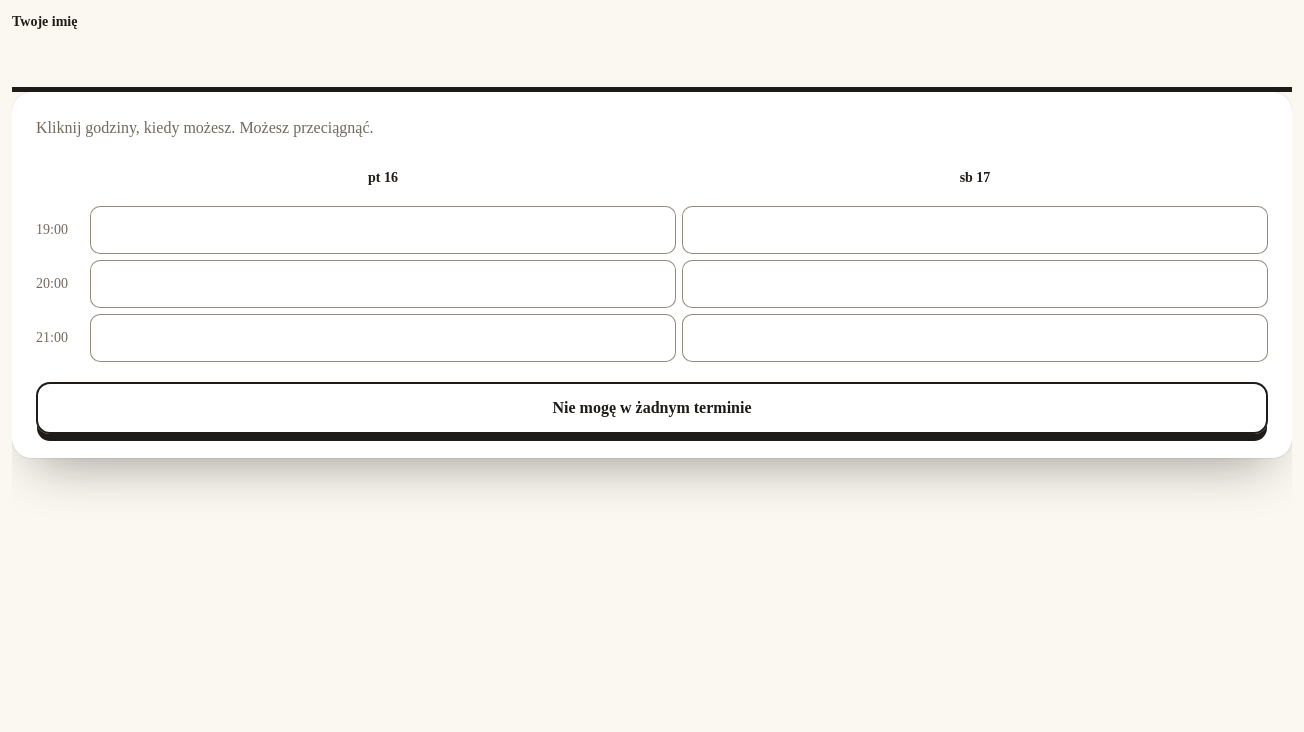
Test case: the Moje lead and body › reports a save that throws to the server log
Type "Ola" into the field labelled "Twoje imię" at (652, 66), box [12,40,1292,92]
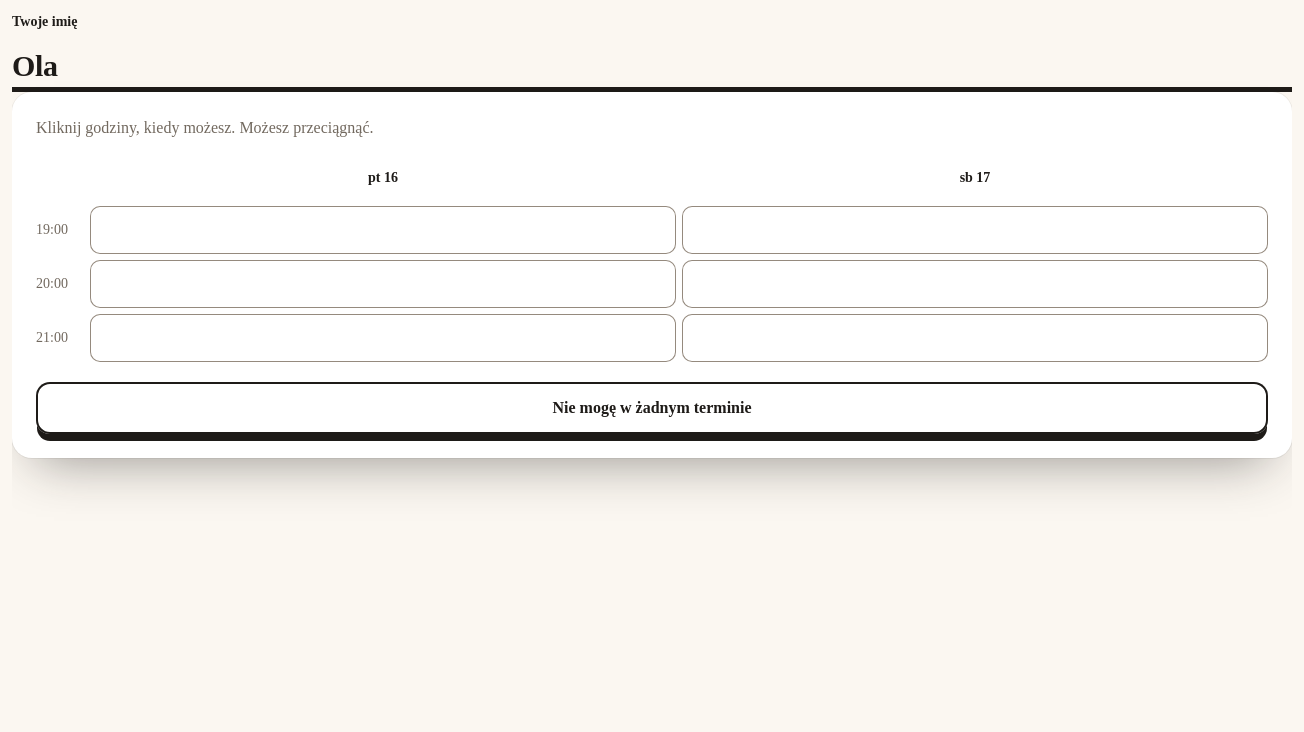
Click the button named "pt 16, 19:00" at (383, 230), box [90,206,676,254]
Wait 500 ms
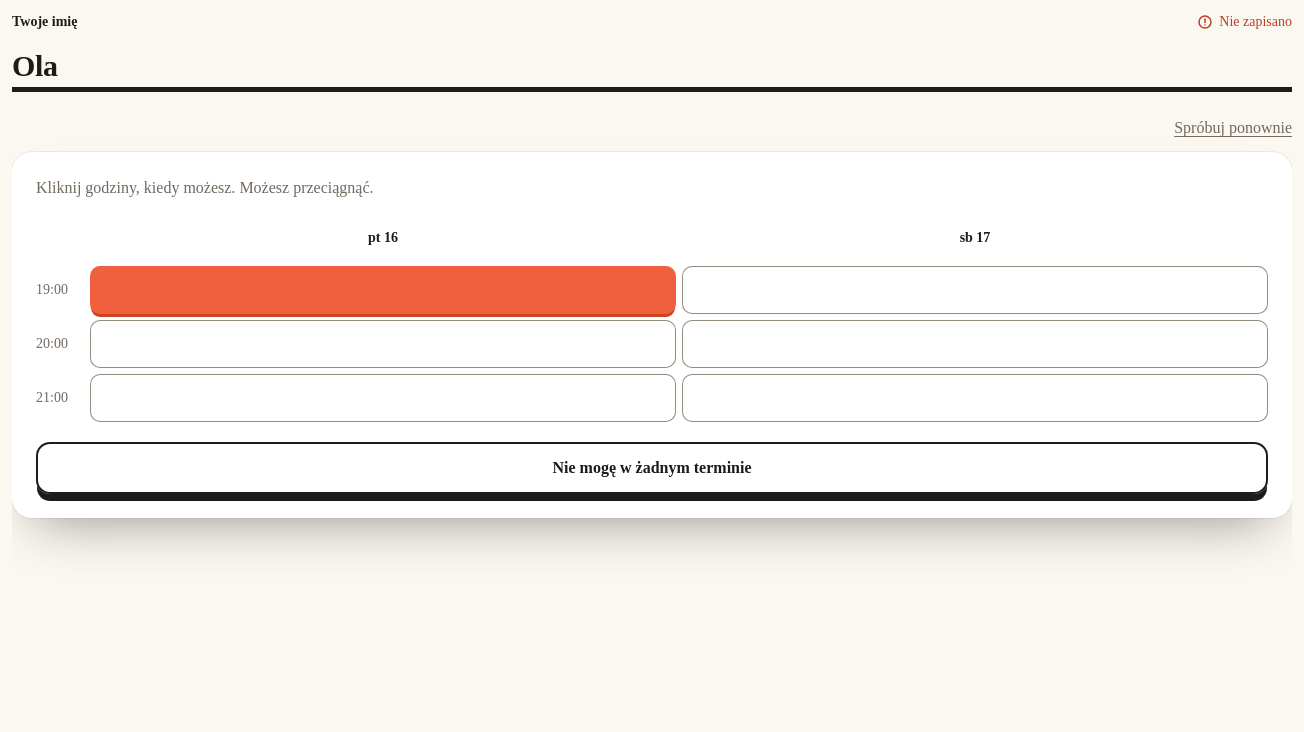
Result: the button "Spróbuj ponownie" is shown at [1174,104,1292,152]
